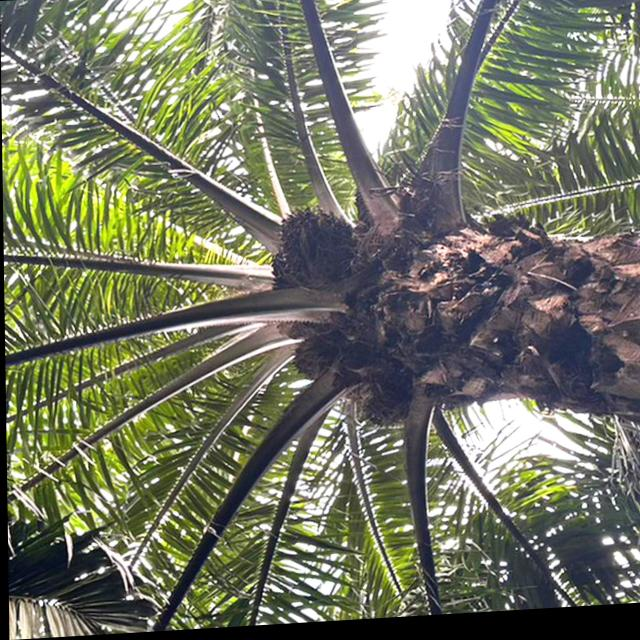almost: (268, 207, 354, 297)
